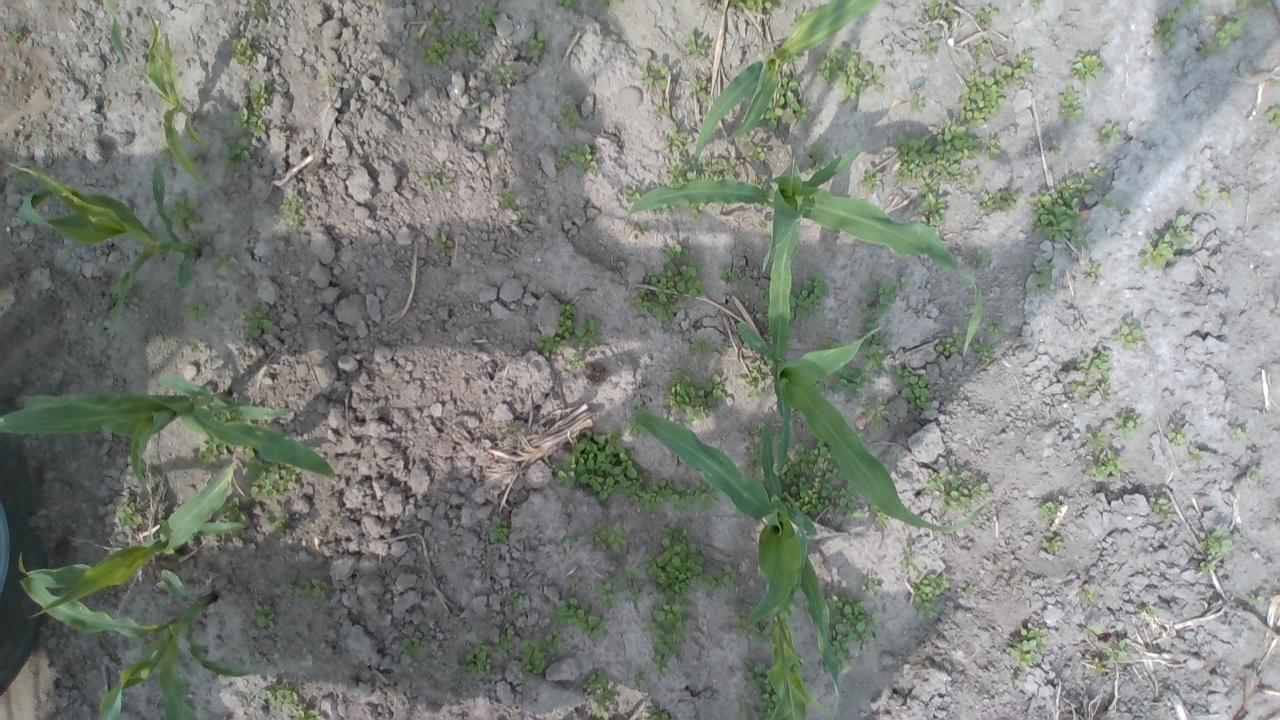Maize: (735, 209, 983, 537), (623, 142, 985, 354), (624, 403, 842, 720), (0, 371, 336, 490), (0, 148, 202, 343), (18, 460, 248, 623), (21, 568, 254, 720), (692, 0, 881, 174), (142, 8, 228, 202), (763, 605, 827, 720), (101, 0, 132, 65)
Weeds: (775, 436, 872, 521), (548, 424, 648, 505), (640, 522, 736, 600), (628, 244, 705, 330), (958, 49, 1032, 129), (897, 117, 983, 185), (1025, 176, 1094, 252), (820, 594, 880, 677), (814, 38, 884, 105), (536, 302, 610, 358), (663, 367, 727, 422), (646, 600, 688, 681), (628, 478, 722, 514), (1136, 214, 1194, 272), (849, 300, 894, 374), (544, 596, 606, 649), (924, 468, 990, 512), (257, 681, 327, 720), (741, 653, 781, 720), (1004, 620, 1048, 675), (246, 460, 302, 503), (594, 562, 646, 608), (788, 270, 832, 323), (1198, 14, 1248, 60), (1072, 346, 1112, 402), (1084, 430, 1128, 480), (423, 31, 481, 66), (891, 365, 933, 413), (909, 572, 951, 620), (581, 668, 619, 720), (733, 597, 771, 646), (161, 195, 205, 236), (775, 77, 814, 123), (554, 143, 600, 180), (453, 637, 492, 680), (829, 365, 874, 402), (590, 518, 632, 557), (912, 184, 949, 226), (1152, 10, 1188, 52), (519, 638, 553, 682), (218, 496, 250, 540), (239, 302, 276, 338), (221, 134, 255, 173), (740, 360, 773, 400), (745, 423, 767, 482), (1070, 50, 1106, 84), (228, 105, 266, 137), (866, 274, 896, 314), (280, 192, 308, 234), (693, 156, 737, 182), (978, 188, 1018, 216), (1110, 319, 1145, 350), (1198, 530, 1234, 560), (663, 158, 695, 191), (639, 57, 670, 90), (1057, 86, 1086, 120), (198, 434, 230, 464), (806, 138, 832, 174), (935, 326, 966, 356), (680, 31, 711, 61), (861, 401, 894, 428), (302, 577, 337, 602), (230, 36, 258, 66), (756, 98, 784, 128), (266, 504, 292, 536), (718, 262, 747, 290), (662, 122, 689, 152), (492, 626, 516, 659), (730, 0, 776, 17), (114, 502, 144, 528), (1101, 639, 1132, 664), (401, 632, 430, 658), (1114, 410, 1143, 436), (486, 515, 511, 545), (927, 0, 958, 24), (856, 166, 882, 194), (686, 77, 712, 104), (557, 100, 579, 131), (478, 3, 498, 36), (1149, 496, 1172, 524), (249, 79, 269, 111), (1034, 264, 1054, 296), (974, 5, 998, 31), (1166, 420, 1188, 448), (213, 248, 237, 272), (856, 576, 882, 598), (1099, 121, 1122, 145), (496, 187, 520, 210), (1037, 500, 1062, 522), (527, 31, 545, 61), (421, 173, 452, 190), (489, 61, 514, 82), (639, 703, 669, 720), (971, 39, 991, 64), (918, 31, 936, 58), (689, 335, 714, 354), (1264, 102, 1280, 131), (186, 303, 209, 323), (254, 601, 272, 626), (682, 199, 707, 217), (432, 234, 454, 254), (1043, 534, 1064, 554), (873, 507, 892, 529), (748, 143, 768, 163), (559, 532, 584, 548), (121, 289, 144, 306), (246, 0, 266, 19), (971, 248, 990, 268), (1080, 583, 1099, 603), (215, 411, 242, 425), (630, 670, 648, 691), (974, 344, 994, 362), (899, 553, 919, 570), (510, 591, 530, 608), (984, 136, 1001, 156), (566, 354, 586, 371), (280, 582, 304, 596), (815, 338, 840, 351), (1079, 624, 1099, 640), (654, 100, 674, 116), (1246, 593, 1266, 609), (624, 184, 640, 202), (1248, 464, 1266, 480), (1098, 194, 1116, 209), (408, 28, 422, 47), (596, 0, 620, 11), (12, 172, 28, 188), (1196, 188, 1212, 204), (566, 582, 584, 596), (1200, 560, 1216, 575), (1189, 448, 1207, 461), (1220, 187, 1233, 204), (555, 0, 575, 11), (428, 12, 446, 24), (792, 8, 805, 24), (482, 139, 498, 152), (1232, 426, 1248, 439), (10, 24, 20, 44), (756, 286, 770, 300), (1086, 264, 1100, 278), (990, 324, 1005, 337), (634, 222, 646, 238), (896, 278, 912, 290), (911, 98, 924, 112), (1051, 142, 1063, 156), (1254, 0, 1272, 9), (1143, 606, 1156, 618), (1090, 168, 1104, 179), (1235, 0, 1250, 10), (1094, 661, 1106, 673), (654, 204, 666, 216), (1120, 206, 1132, 217), (962, 583, 974, 594), (1183, 0, 1200, 7), (749, 174, 759, 185), (472, 102, 481, 114), (758, 219, 768, 229), (327, 71, 336, 81), (1030, 0, 1040, 8), (719, 346, 728, 352)
